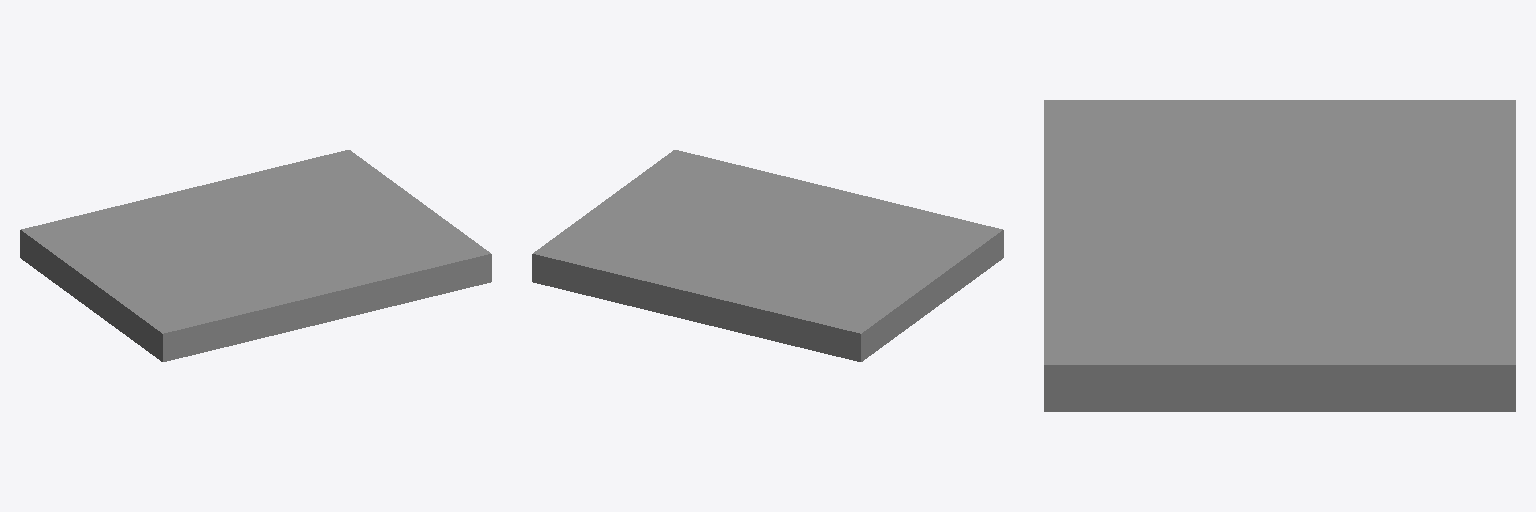
The robot description file, URDF, robot "rotary_slide_base_link":
<?xml version='1.0' encoding='utf-8'?>
<robot name="rotary_slide_base_link">
  <link name="base_link">
    <inertial>
      <origin xyz="0 0 0.01" rpy="0 0 0" />
      <mass value="6.782399999999999" />
      <inertia ixx="0.01853856" iyy="0.0327816" izz="0.050868" ixy="0" iyz="0" ixz="0" />
    </inertial>
    <visual>
      <origin xyz="0 0 0" rpy="0 0 0" />
      <geometry>
        <mesh filename="package://rotary_slide_description/meshes/base_link.stl" scale="0.001 0.001 0.001" />
      </geometry>
      <material name="base_link_material">
        <color rgba="0.6235294117647059 0.6235294117647059 0.6235294117647059 1" />
      </material>
    </visual>
    <collision>
      <origin xyz="0 0 0" rpy="0 0 0" />
      <geometry>
        <mesh filename="package://rotary_slide_description/meshes/base_link.stl" scale="0.001 0.001 0.001" />
      </geometry>
    </collision>
  </link>
</robot>

--- Render facts (derived) ---
3 views of the same robot in one strip: view 1: azimuth 30°, elevation 25°; view 2: azimuth 150°, elevation 25°; view 3: azimuth 270°, elevation 25° (orthographic).
Robot: rotary_slide_base_link — 1 links, 0 joints (none); root link base_link; default pose: every joint at zero.
Links seen in each view (by area): view 1: base_link; view 2: base_link; view 3: base_link.
Boxes of the visible links, left/top/right/bottom form: base_link: left=20, top=150, right=491, bottom=361; base_link: left=532, top=150, right=1003, bottom=361; base_link: left=1044, top=100, right=1515, bottom=411.
Size in the robot's own frame: 0.24 by 0.18 by 0.02 metres.
1 mesh visuals loaded from 1 distinct referenced files (1 binary STL).
